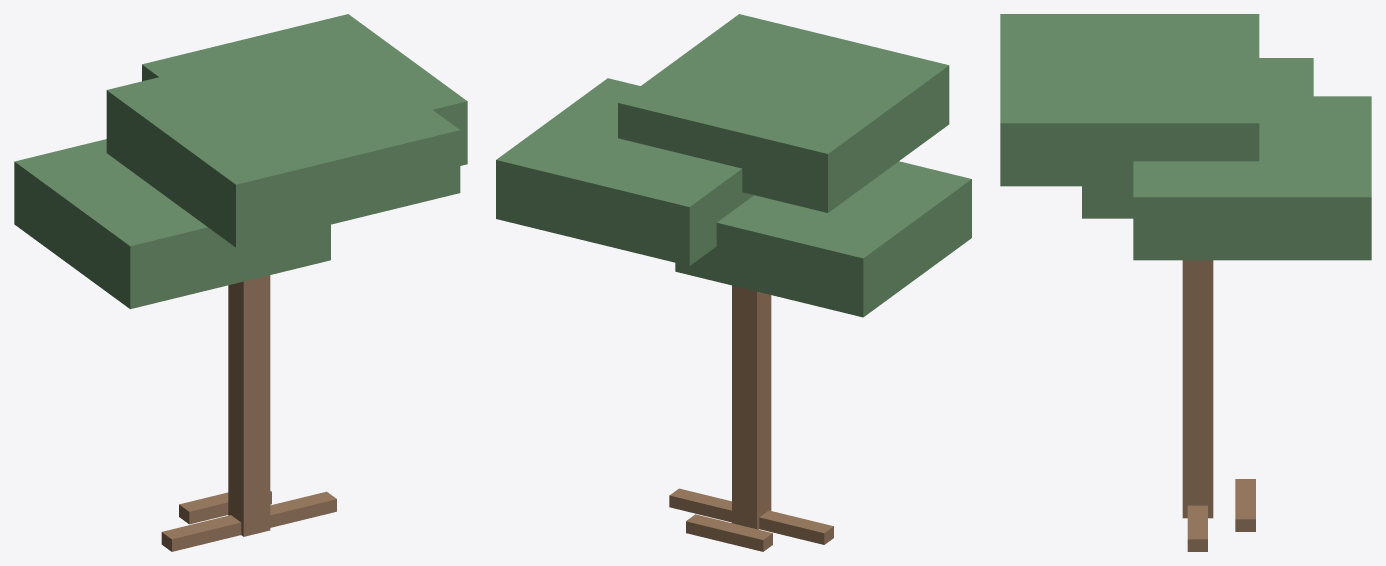
Rendered from forest-0.glb.
The picture shows the model from 3 angles, left to right: view 1: azimuth 30°, elevation 25°; view 2: azimuth 150°, elevation 25°; view 3: azimuth 270°, elevation 25°; orthographic projection. The views are drawn at different scales.
Size of the model in its own units: 7.69 by 8.97 by 6.81.
